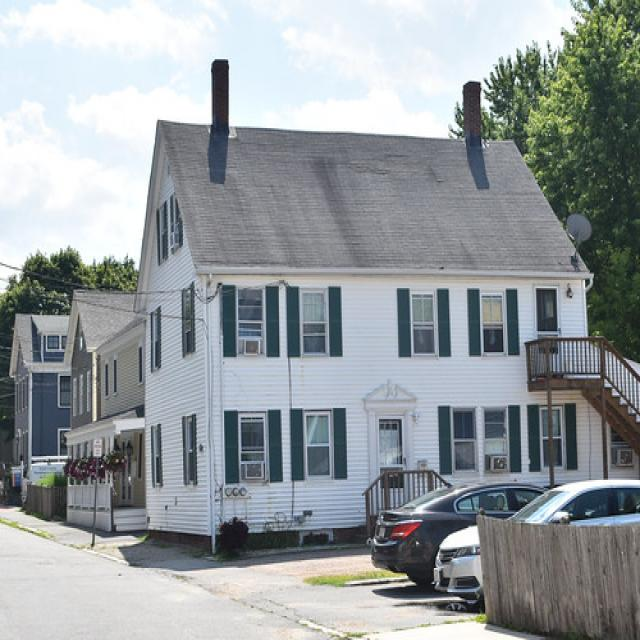Normal_building: (135, 54, 619, 570), (61, 288, 150, 534), (8, 310, 78, 514)
